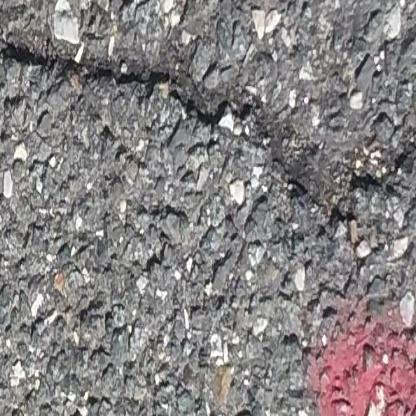Cracks: (0, 12, 416, 247)
